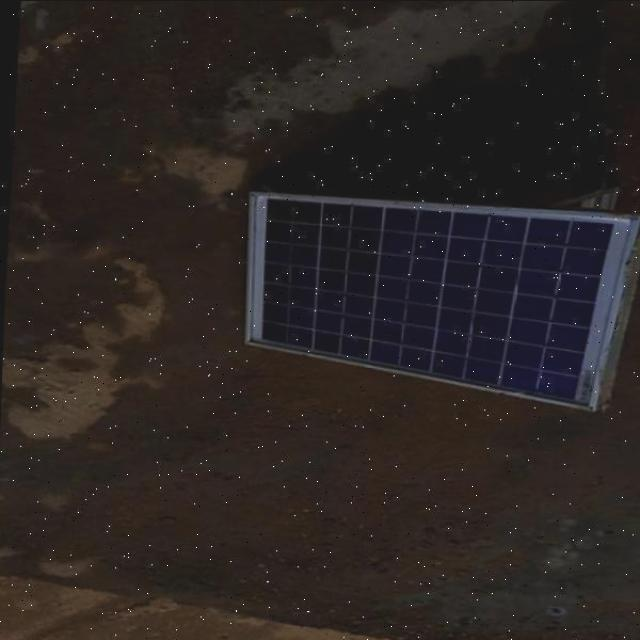Normal Solar Panel: (237, 177, 640, 420)
